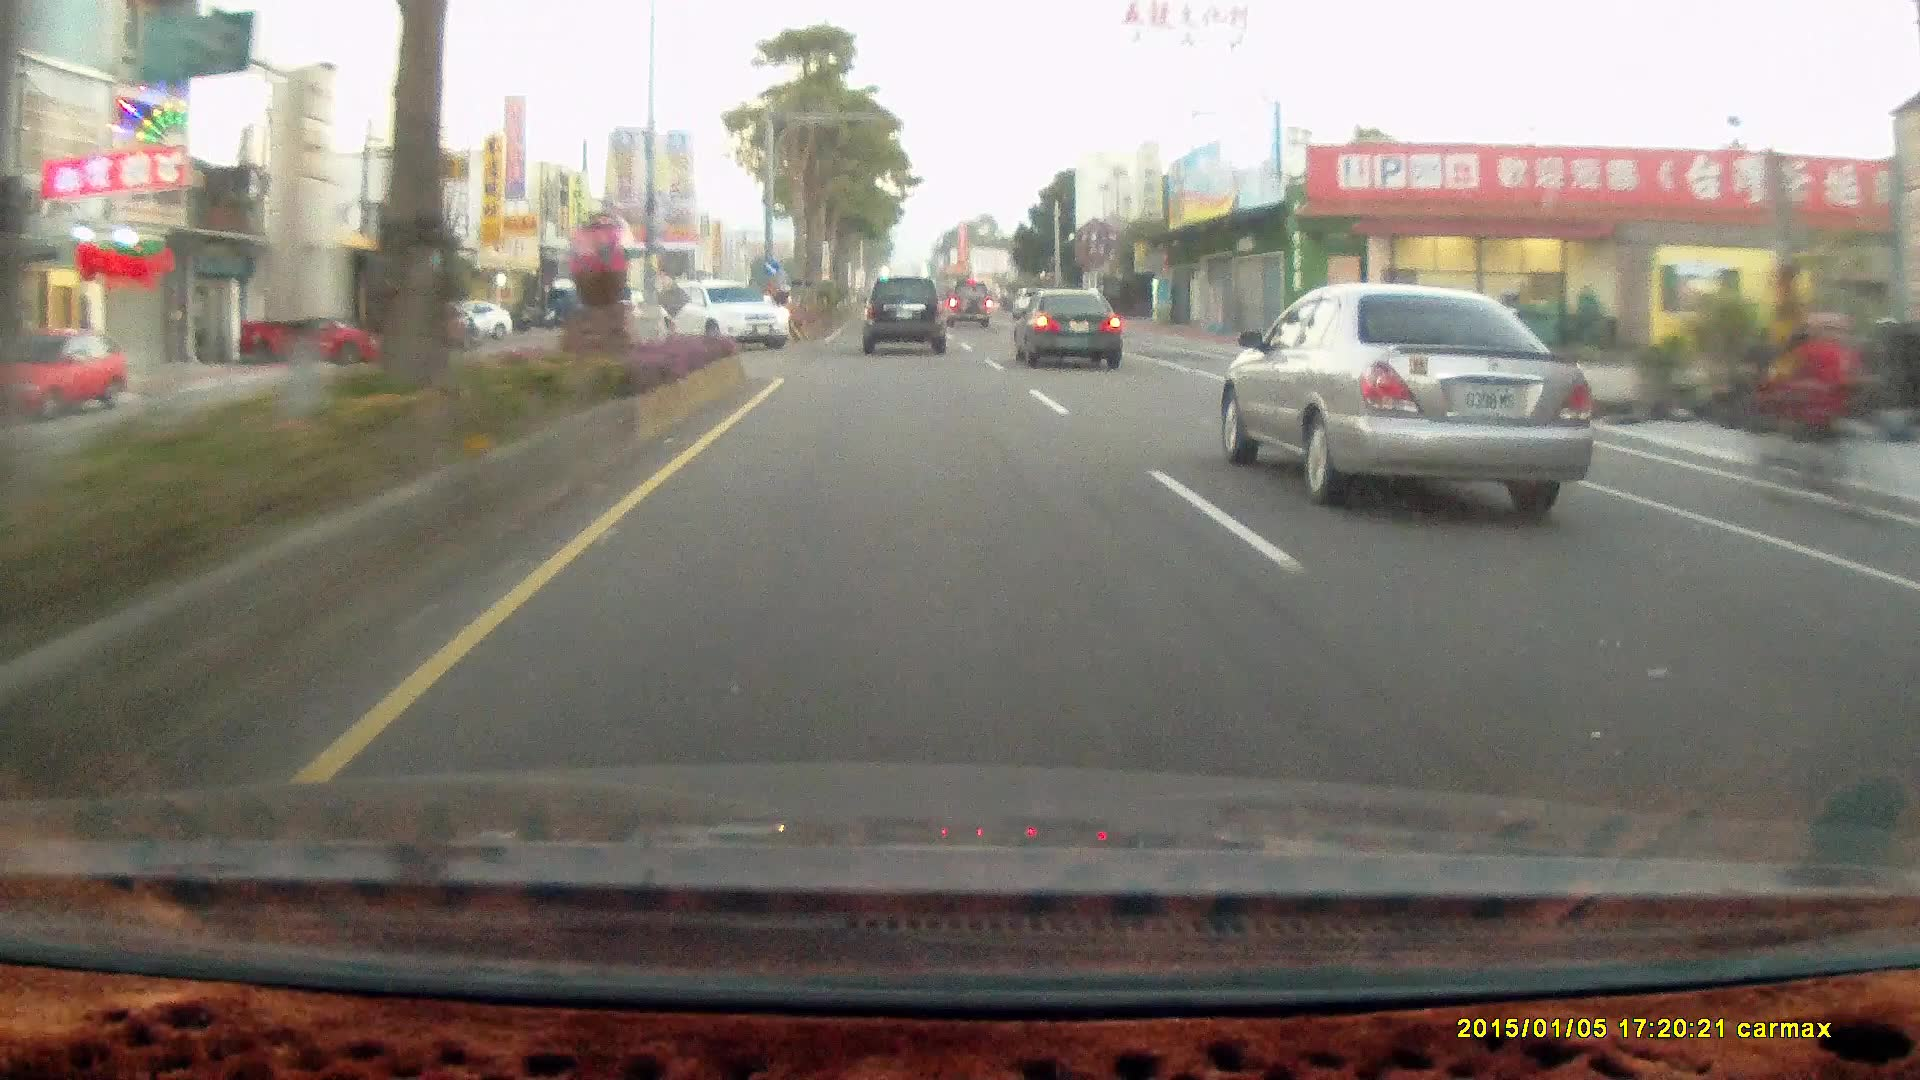pedestrian: (1782, 311, 1863, 509), (1803, 314, 1870, 494)
vehicle: (1218, 281, 1601, 526), (2, 328, 125, 421), (1012, 286, 1129, 373), (654, 279, 790, 350), (233, 308, 398, 365), (1011, 284, 1122, 366), (236, 307, 395, 364), (678, 280, 796, 352), (861, 277, 953, 355), (861, 276, 944, 354), (438, 299, 514, 339), (944, 280, 995, 330), (945, 276, 994, 326)
